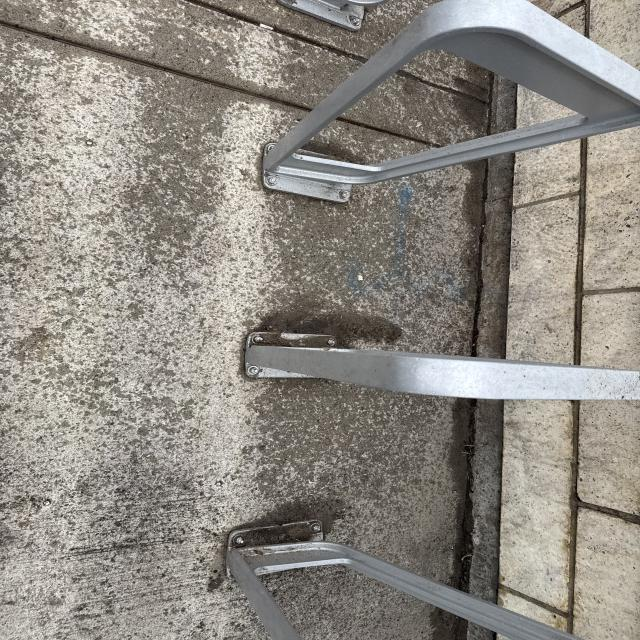Bicycle Rack: (259, 2, 637, 204), (222, 525, 577, 640), (243, 330, 636, 404)
